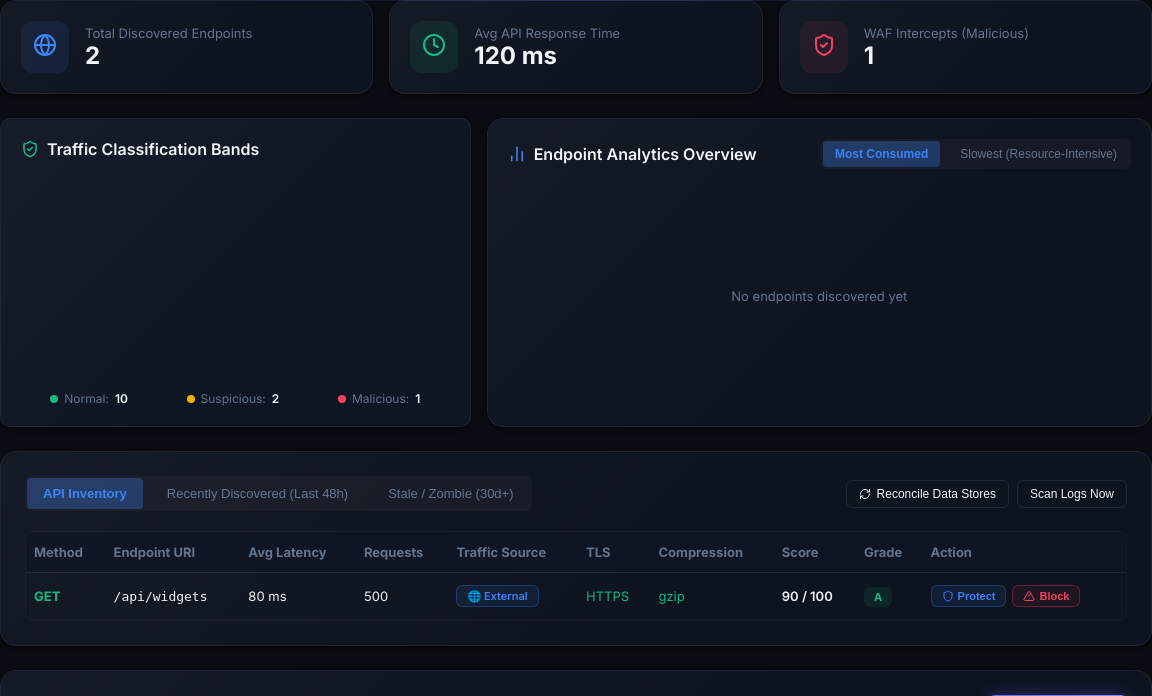
ApiProtection — protect endpoint › pre-fills a suggested rule name and pattern from the endpoint
Step 1. Click the button "Protect" → coordinates (968, 596), box [930, 585, 1006, 607]
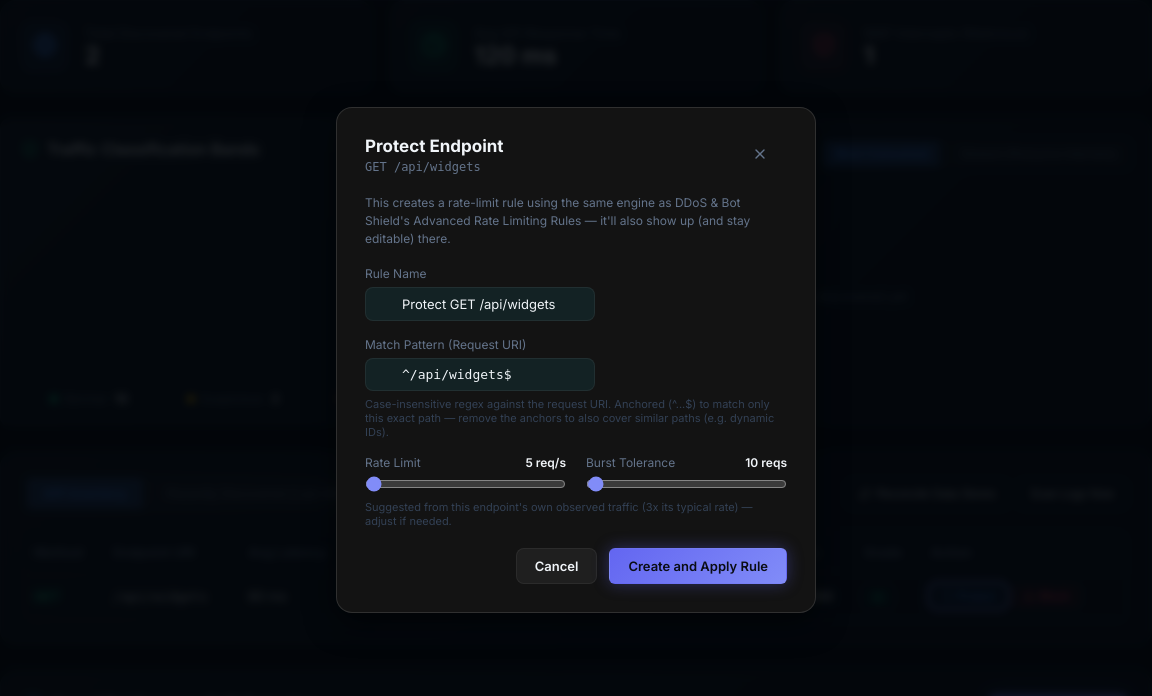
Now the field labelled "Rule Name" holds "Protect GET /api/widgets", box [365, 287, 595, 321]
Now the field labelled "Match Pattern (Request URI)" holds "^/api/widgets$", box [365, 358, 595, 391]
